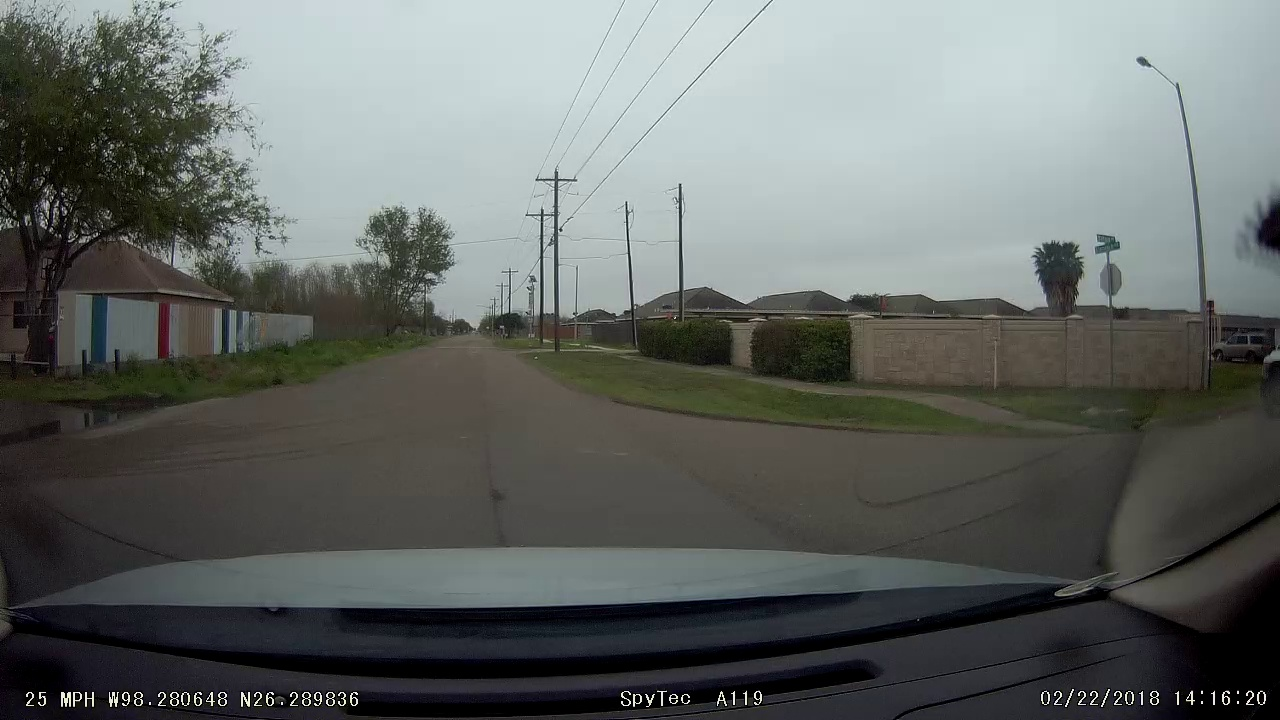crack: (478, 422, 519, 531)
